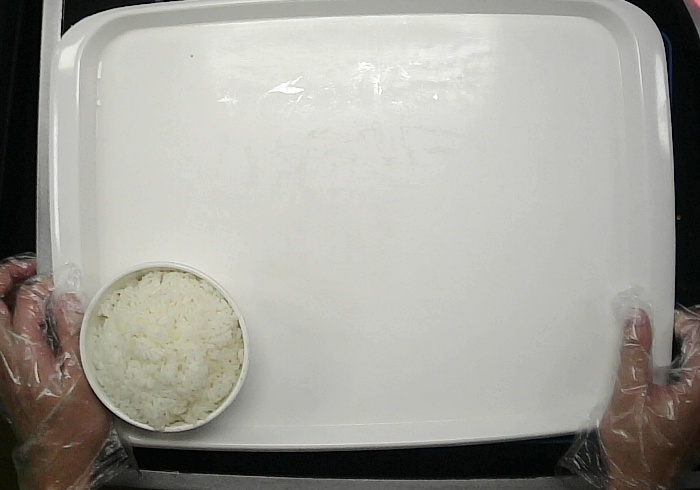HZYJPL-Fan_Wan: (79, 263, 250, 433)
